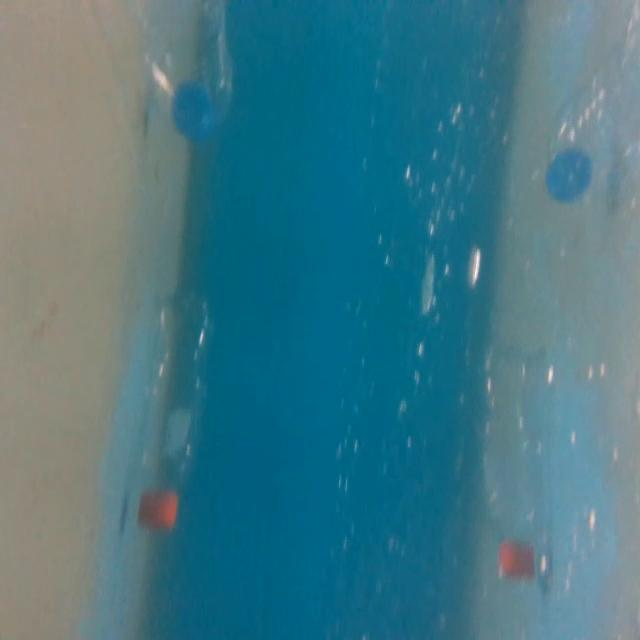plastic bottle: (120, 287, 217, 533), (102, 0, 251, 143)
